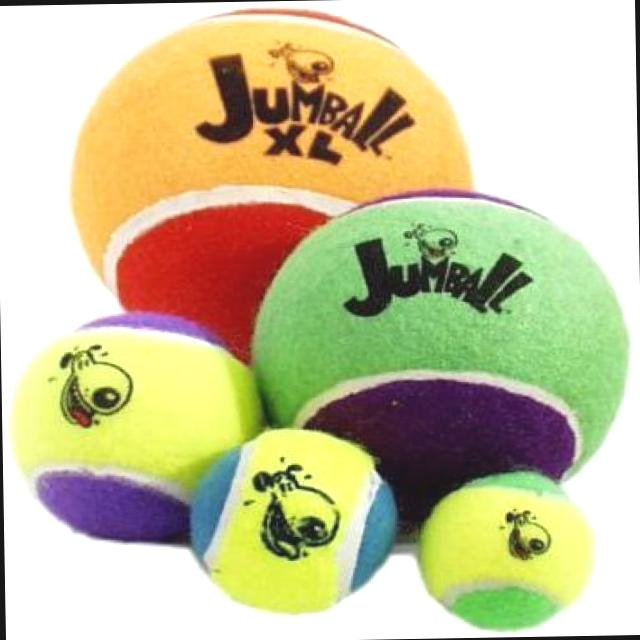Tennis Ball: (66, 9, 476, 365), (248, 191, 628, 536), (7, 315, 267, 540), (183, 428, 397, 617), (415, 470, 597, 635)
